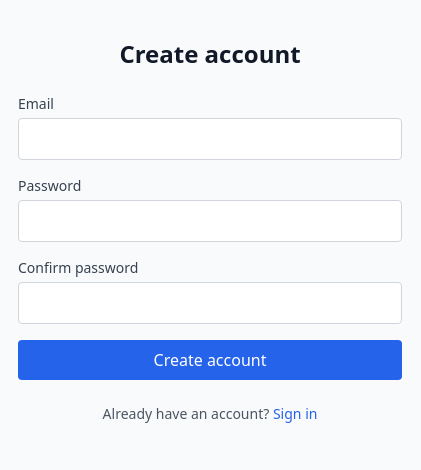
Test case: RegisterPage › shows error when password is shorter than 8 characters
Type "Ab1!" into the password field labelled "Password". click: (210, 221)
box: top-left (18, 200), bottom-right (402, 242)
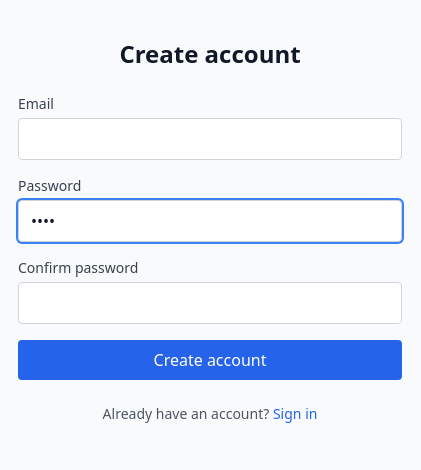
Click the button "Create account". click: (210, 360)
box: top-left (18, 340), bottom-right (402, 380)
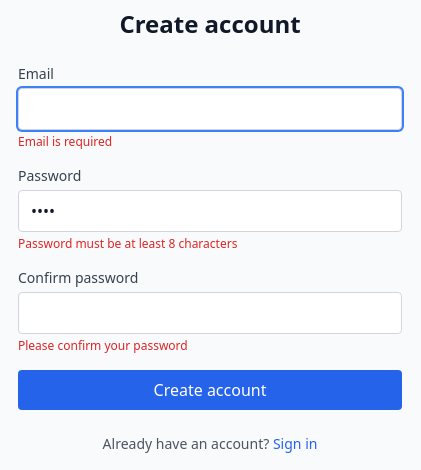
Expected: the text "Password must be at least 8 characters" is shown, top-left (18, 235), bottom-right (237, 252)
